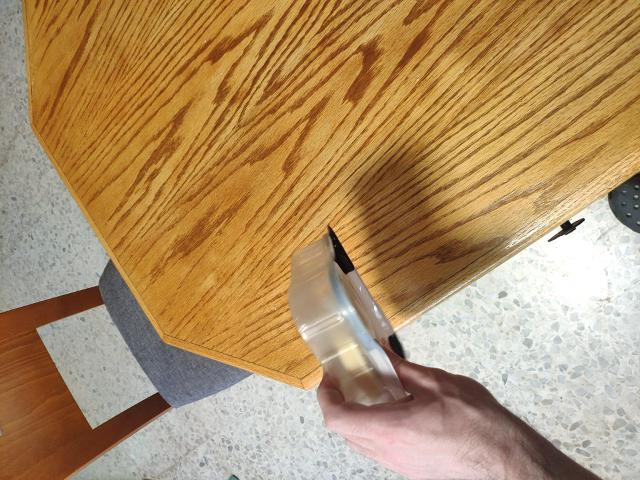cheese: (286, 231, 404, 414)
